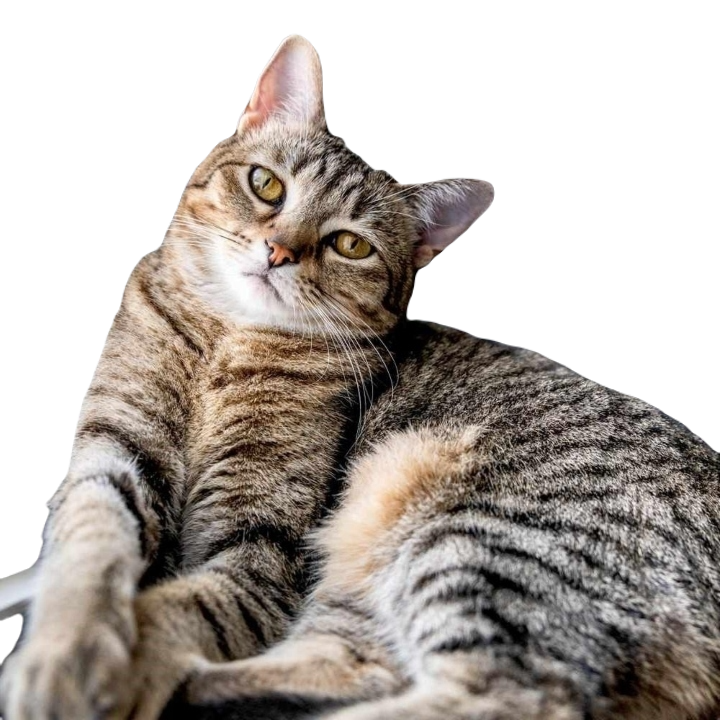Cat: (10, 26, 719, 719)
